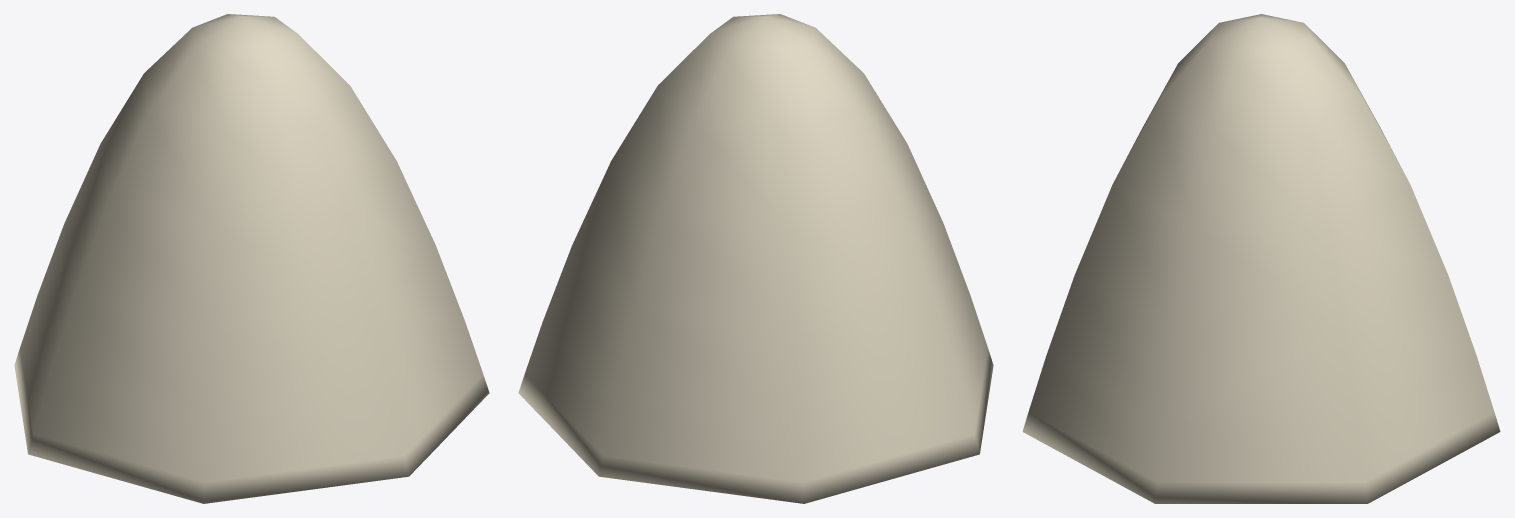
The model's file is Lantern.fbx.
3 views of the same model, side by side, from view 1: azimuth 30°, elevation 25°; view 2: azimuth 150°, elevation 25°; view 3: azimuth 270°, elevation 25° (orthographic).
Parts seen in each view (by area): view 1: obj_0; view 2: obj_0; view 3: obj_0.
Boxes of the visible parts, left/top/right/bottom form: obj_0: left=14, top=14, right=489, bottom=503; obj_0: left=518, top=14, right=993, bottom=503; obj_0: left=1022, top=14, right=1500, bottom=503.
Bounding box in the file's own units: 2000 × 1900 × 2000.
